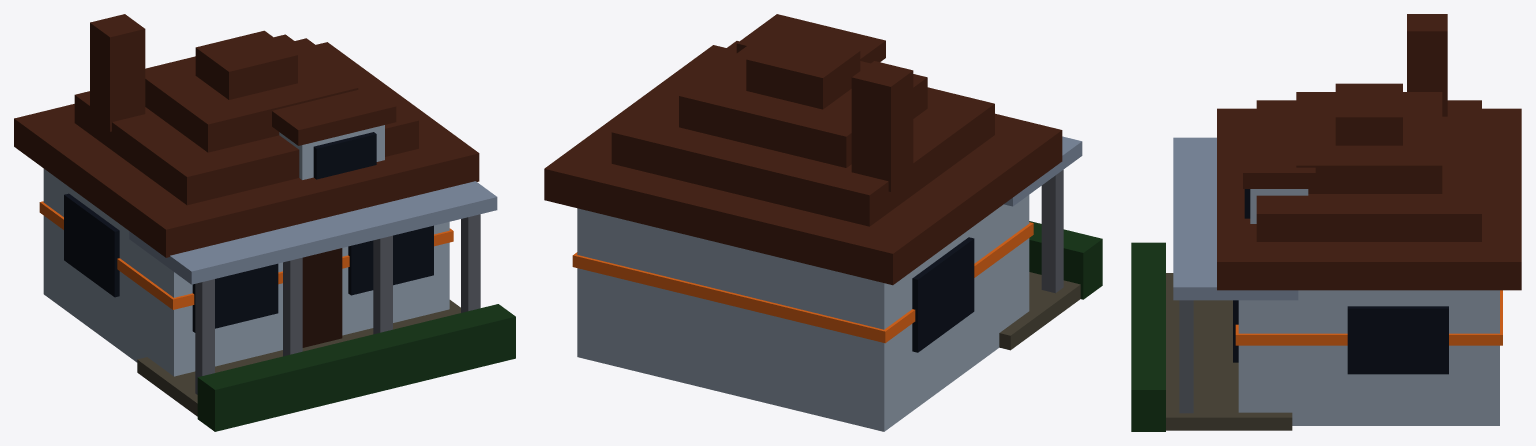
File: house3.obj
3 views of the same model, side by side, from view 1: azimuth 30°, elevation 25°; view 2: azimuth 150°, elevation 25°; view 3: azimuth 270°, elevation 25° (orthographic). The views are drawn at different scales.
Visible parts, largest first — view 1: roof, body, hedge, veranda-roof, windows, veranda-posts, chimney, dormer-cap, door, veranda-deck, dormer-window, window-light (+1 smaller); view 2: roof, body, chimney, window-light, windows, hedge, dormer-cap, veranda-posts, veranda-deck, veranda-roof; view 3: roof, body, veranda-deck, veranda-roof, windows, hedge, dormer-cap, chimney, window-light, veranda-posts, dormer.
Part boxes in pixels (left/top/right/bottom): roof: left=14, top=30, right=479, bottom=257; body: left=43, top=168, right=449, bottom=376; hedge: left=197, top=304, right=515, bottom=431; veranda-roof: left=129, top=181, right=497, bottom=284; windows: left=64, top=193, right=433, bottom=332; veranda-posts: left=195, top=214, right=480, bottom=394; chimney: left=90, top=14, right=145, bottom=131; dormer-cap: left=272, top=80, right=396, bottom=145; door: left=302, top=248, right=342, bottom=347; veranda-deck: left=137, top=300, right=460, bottom=416; dormer-window: left=313, top=132, right=376, bottom=179; window-light: left=39, top=201, right=453, bottom=309; roof: left=544, top=32, right=1062, bottom=285; body: left=577, top=195, right=1029, bottom=431; chimney: left=851, top=61, right=913, bottom=191; window-light: left=572, top=222, right=1033, bottom=343; windows: left=912, top=237, right=974, bottom=352; hedge: left=1029, top=221, right=1102, bottom=299; dormer-cap: left=736, top=14, right=885, bottom=63; veranda-posts: left=1041, top=170, right=1063, bottom=293; veranda-deck: left=999, top=272, right=1080, bottom=350; veranda-roof: left=1004, top=136, right=1082, bottom=206; roof: left=1217, top=83, right=1521, bottom=290; body: left=1238, top=290, right=1499, bottom=425; veranda-deck: left=1166, top=273, right=1292, bottom=430; veranda-roof: left=1173, top=137, right=1298, bottom=300; windows: left=1233, top=300, right=1448, bottom=374; hedge: left=1131, top=242, right=1165, bottom=431; dormer-cap: left=1243, top=125, right=1315, bottom=188; chimney: left=1407, top=14, right=1447, bottom=116; window-light: left=1235, top=290, right=1502, bottom=345; veranda-posts: left=1179, top=300, right=1193, bottom=413; dormer: left=1250, top=189, right=1308, bottom=223.
Size of the model in its own units: 2.5 by 2.18 by 2.69.
